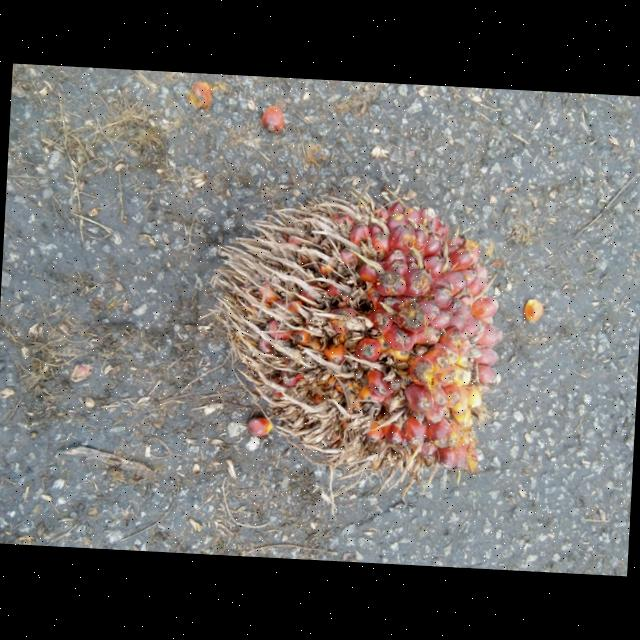Ripe: (222, 195, 507, 478)
